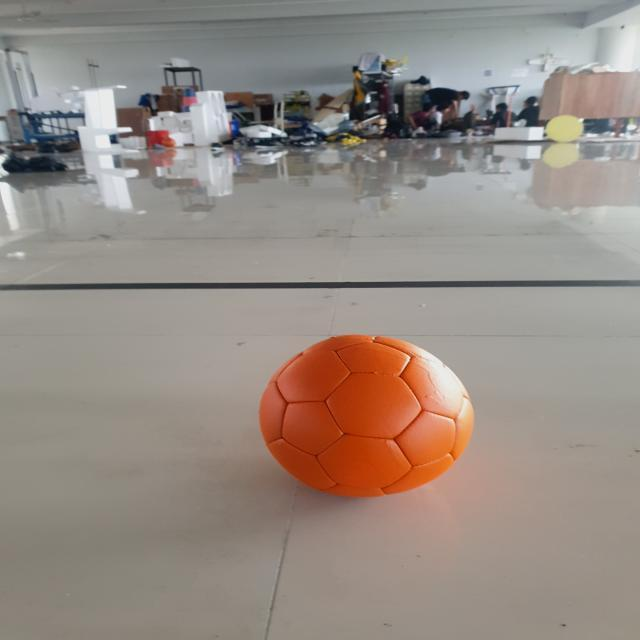bola: (244, 321, 486, 506)
